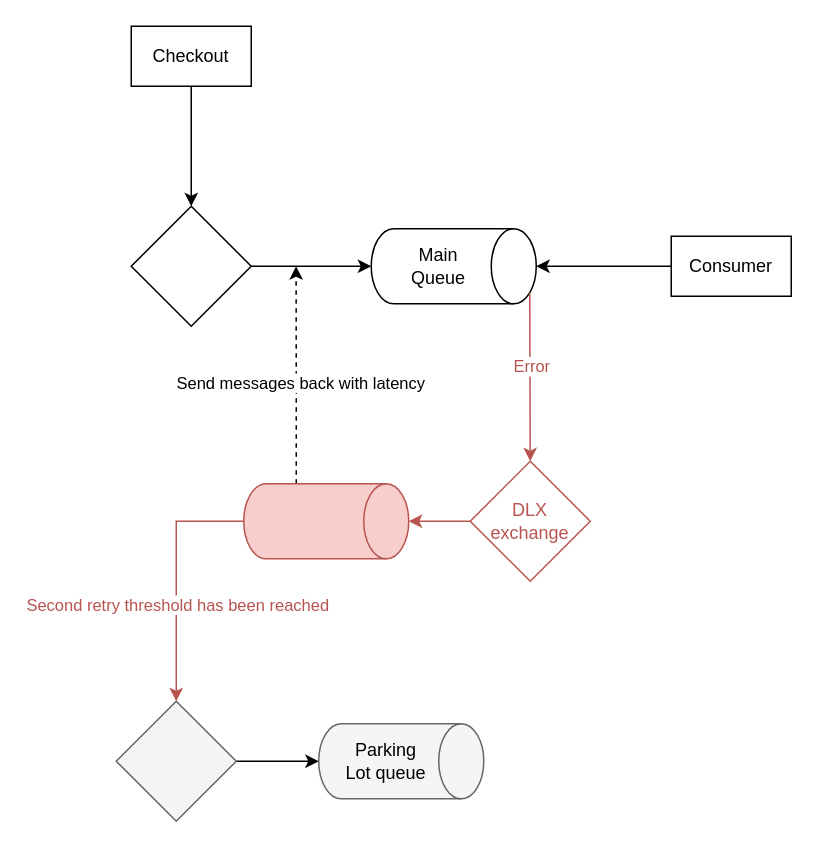
The diagram is 818 pixels wide and 848 high, and some of its shapes have lost their labels. The box of each missing label's shape, as (x1, y1, x2, y2) in pixels:
DLQ: (242, 482, 409, 559)
Main exchange: (130, 205, 251, 326)
Parking Lot exchange: (115, 700, 236, 821)
